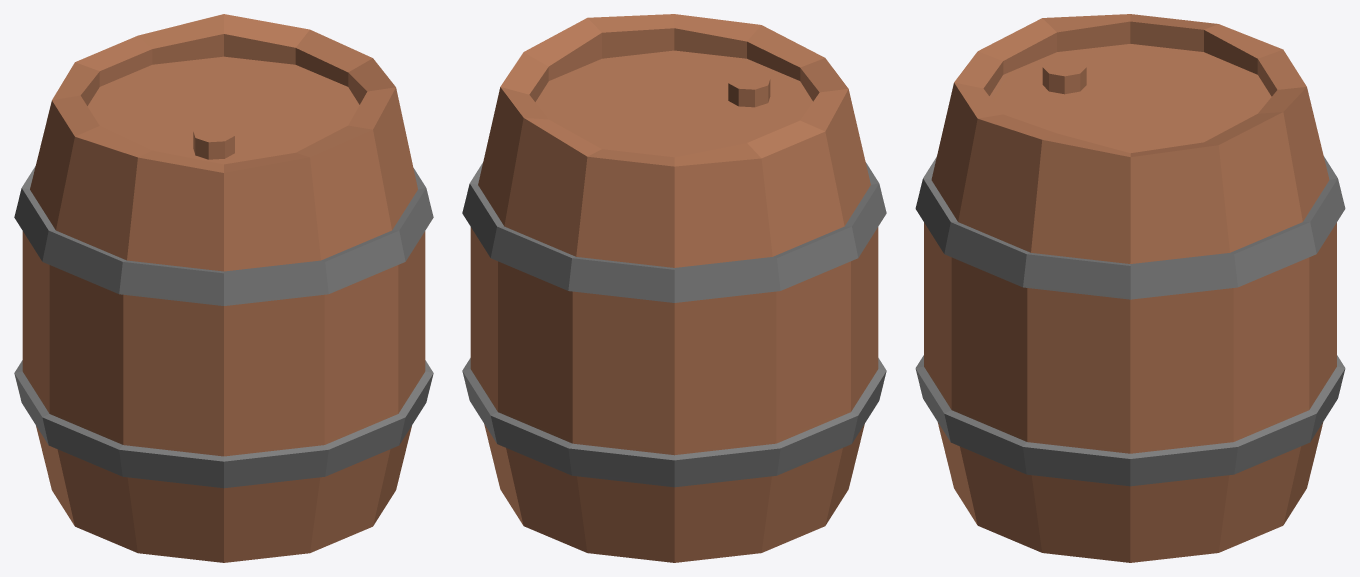
The model's file is simple_barrel.fbx.
The picture shows the model from 3 angles, left to right: view 1: azimuth 30°, elevation 25°; view 2: azimuth 150°, elevation 25°; view 3: azimuth 270°, elevation 25°; orthographic projection. The views are drawn at different scales.
Parts seen in each view (by area): view 1: Crok; view 2: Crok; view 3: Crok.
Boxes of the visible parts, <box> form: Crok: <box>14,14,433,562</box>; Crok: <box>462,14,886,562</box>; Crok: <box>915,14,1345,562</box>.
Size of the model in its own units: 97.47 by 103 by 97.47.
